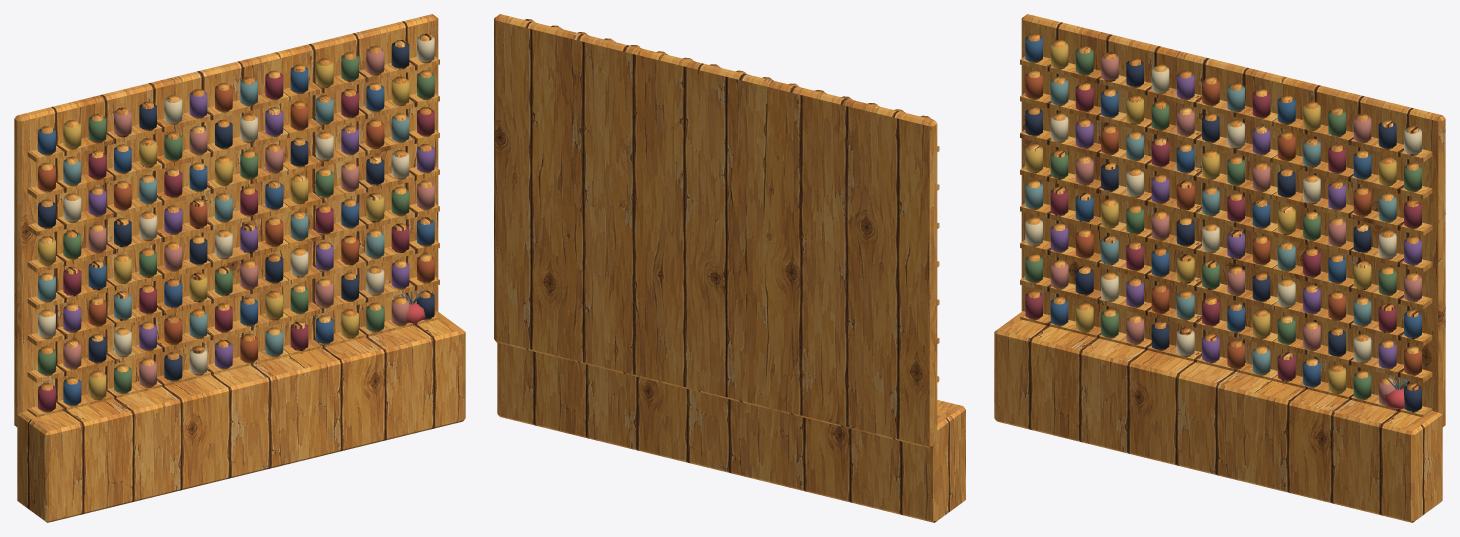
3 views of the same model, side by side, from view 1: azimuth 30°, elevation 25°; view 2: azimuth 150°, elevation 25°; view 3: azimuth 330°, elevation 25° (orthographic). The views are drawn at different scales.
Visible parts, largest first — view 1: shop_oak, shop_cloth_3, shop_cloth_2, shop_cloth_1, shop_cloth_0, shop_cloth_6, shop_cloth_4, shop_cloth_5, shop_cloth_8, shop_cloth_9, shop_cloth_7; view 2: shop_oak; view 3: shop_oak, shop_cloth_3, shop_cloth_1, shop_cloth_2, shop_cloth_5, shop_cloth_6, shop_cloth_0, shop_cloth_4, shop_cloth_9, shop_cloth_7, shop_cloth_8.
Part boxes in pixels (x1=…): shop_oak: x1=14, y1=14, x2=465, y2=522; shop_cloth_3: x1=38, y1=54, x2=434, y2=392; shop_cloth_2: x1=38, y1=60, x2=409, y2=398; shop_cloth_1: x1=38, y1=67, x2=434, y2=405; shop_cloth_0: x1=38, y1=73, x2=434, y2=411; shop_cloth_6: x1=38, y1=36, x2=434, y2=374; shop_cloth_4: x1=63, y1=48, x2=434, y2=386; shop_cloth_5: x1=38, y1=42, x2=434, y2=380; shop_cloth_8: x1=38, y1=85, x2=434, y2=361; shop_cloth_9: x1=38, y1=79, x2=409, y2=355; shop_cloth_7: x1=63, y1=91, x2=434, y2=368; shop_oak: x1=494, y1=14, x2=965, y2=522; shop_oak: x1=994, y1=14, x2=1445, y2=522; shop_cloth_3: x1=1025, y1=48, x2=1421, y2=398; shop_cloth_1: x1=1025, y1=36, x2=1421, y2=386; shop_cloth_2: x1=1025, y1=42, x2=1396, y2=392; shop_cloth_5: x1=1025, y1=60, x2=1421, y2=411; shop_cloth_6: x1=1025, y1=67, x2=1421, y2=362; shop_cloth_0: x1=1025, y1=85, x2=1421, y2=380; shop_cloth_4: x1=1050, y1=54, x2=1421, y2=404; shop_cloth_9: x1=1025, y1=79, x2=1396, y2=374; shop_cloth_7: x1=1050, y1=73, x2=1421, y2=368; shop_cloth_8: x1=1025, y1=72, x2=1421, y2=374.
Bounding box in the file's own units: 2.4 × 2.1 × 0.33.
Materials: 13 (1 with a texture image).
